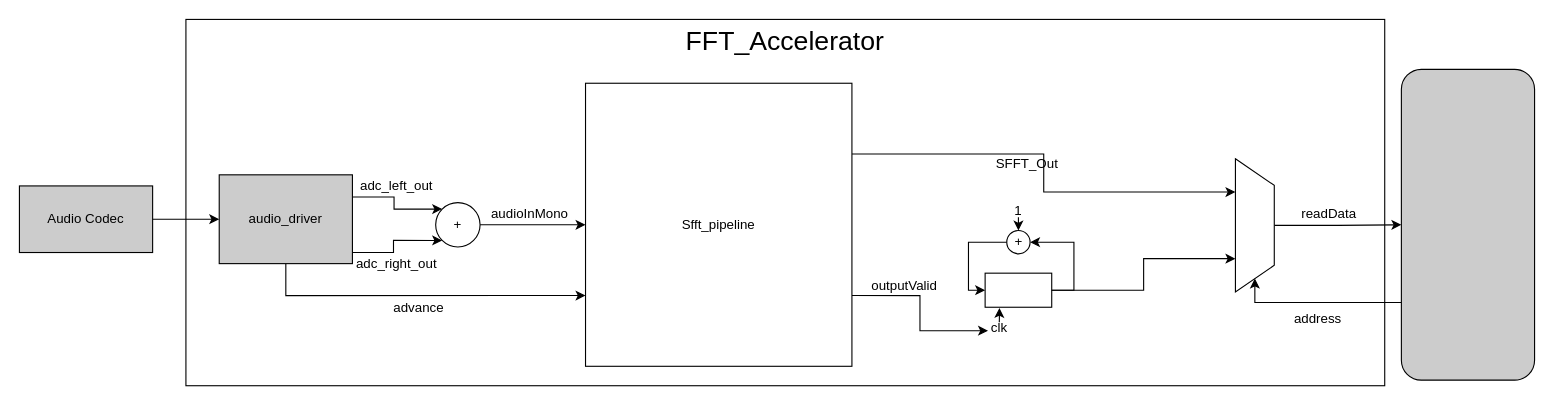
Image size: 1554x405. Some labels were removed from this diagram. Here are the shapes that lost their labels. From the top down, the box of each, then its label:
(1400, 68, 1535, 380): Avalon Interface
(984, 272, 1052, 307): Counter (32)
